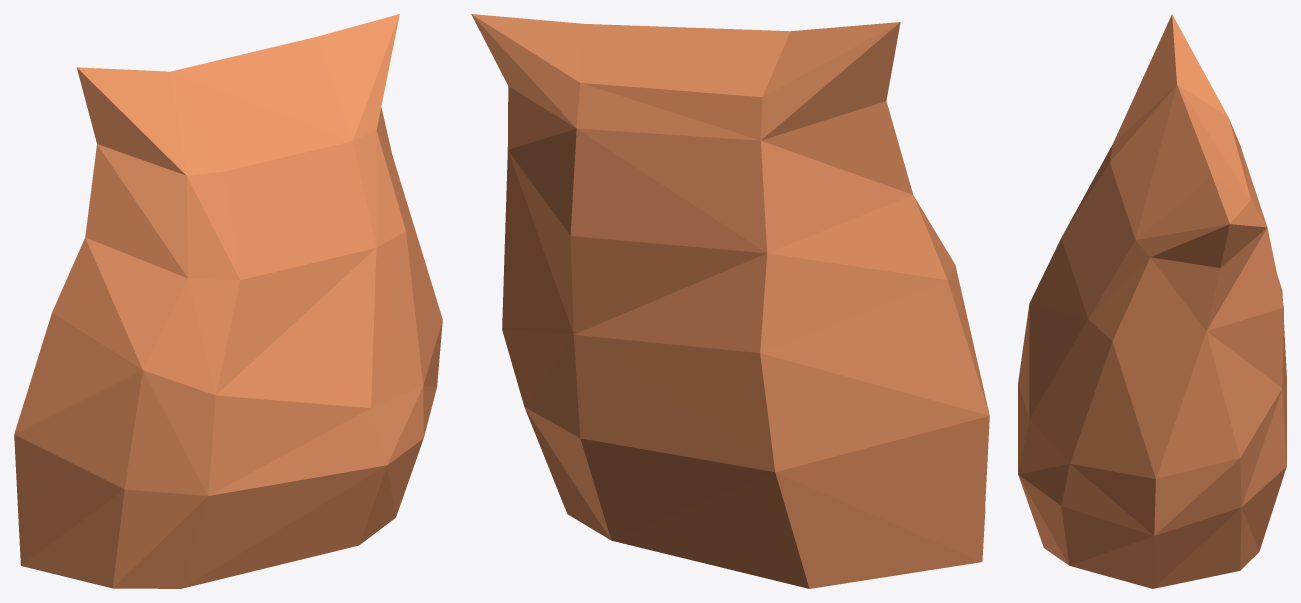
The model's file is zhuangshi_07.FBX.
3 views of the same model, side by side, from view 1: azimuth 30°, elevation 25°; view 2: azimuth 150°, elevation 25°; view 3: azimuth 270°, elevation 25° (orthographic). The views are drawn at different scales.
Parts seen in each view (by area): view 1: zhuangshi_07; view 2: zhuangshi_07; view 3: zhuangshi_07.
Part boxes in pixels (x1,y1,x2,y2): zhuangshi_07: (14, 14, 442, 588); zhuangshi_07: (471, 14, 989, 588); zhuangshi_07: (1018, 14, 1286, 588).
Size of the model in its own units: 401 by 432 by 237.
